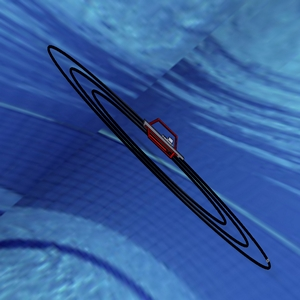circle: (35, 33, 278, 282)
submarine: (132, 109, 187, 166)
